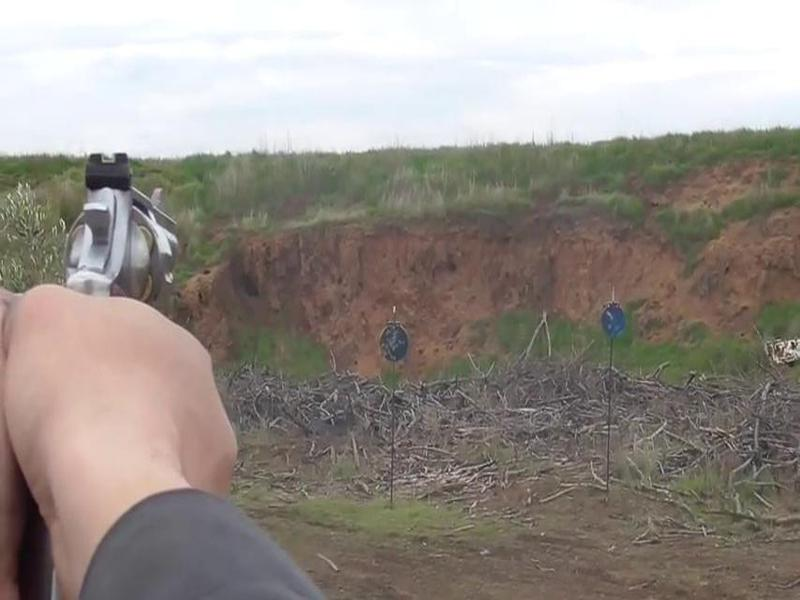Revolver: (52, 139, 189, 337)
